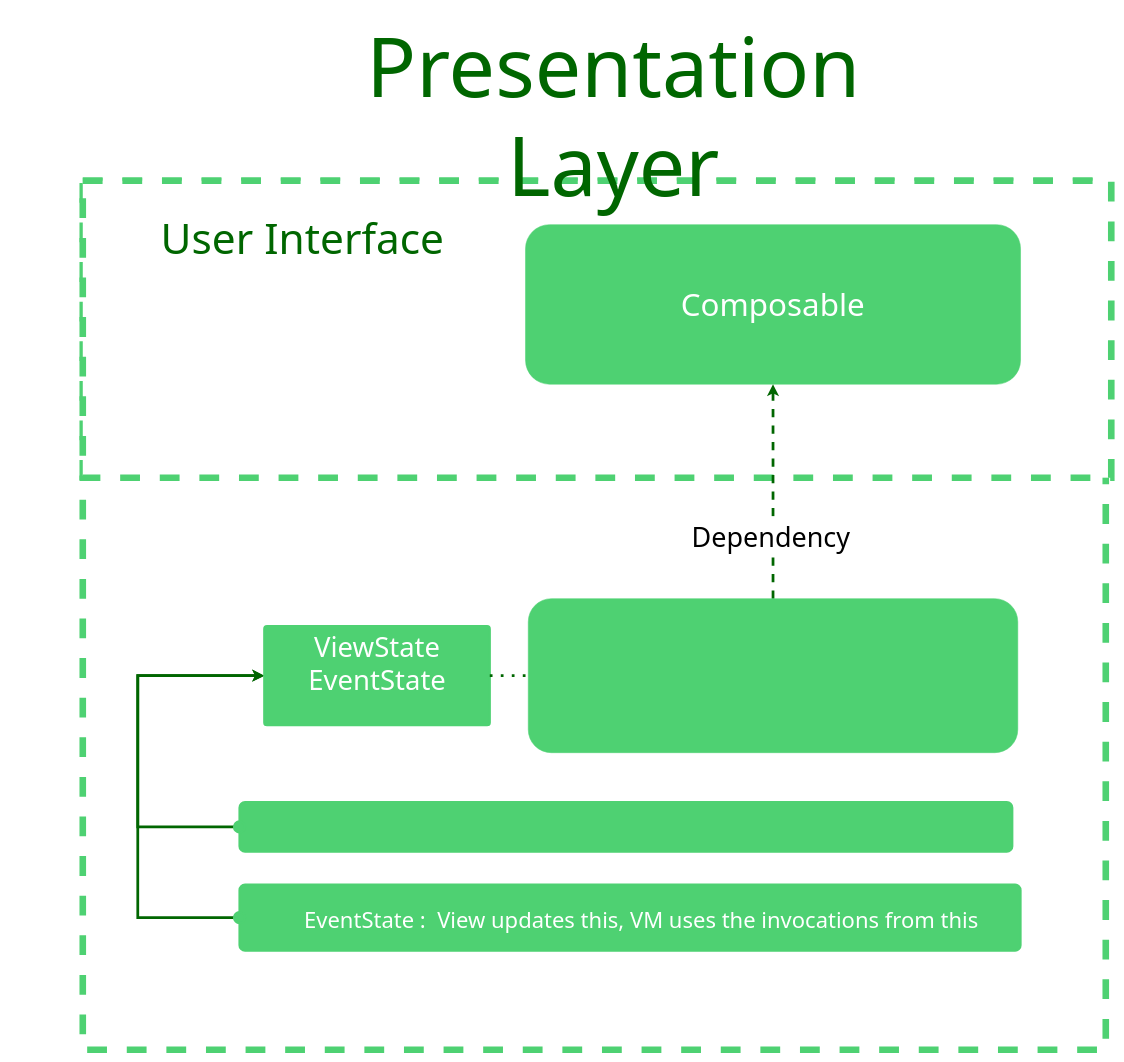
Some shapes in this 1124 by 1062 pixel diagram are drawn without their labels. Each missing label, with the box of its shape:
View Model: (528, 598, 1018, 753)
ViewState : View observes this, VM updates this: (233, 801, 1013, 853)
